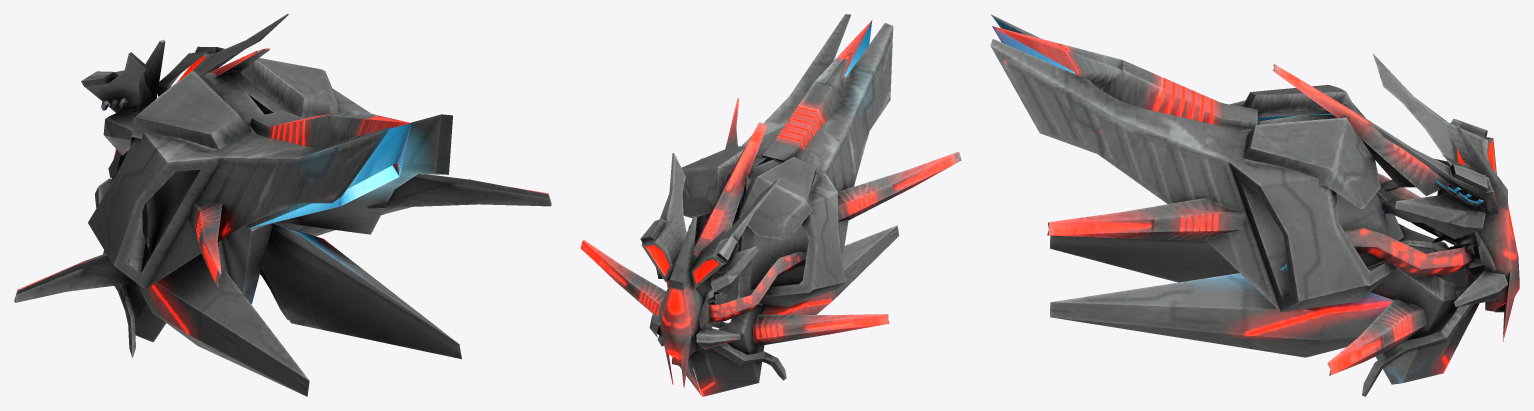
The model's file is slender.glb.
3 renders of one model, left to right at view 1: azimuth 30°, elevation 25°; view 2: azimuth 150°, elevation 25°; view 3: azimuth 270°, elevation 25°, orthographic. The views are drawn at different scales.
Parts seen in each view (by area): view 1: saimon_LP; view 2: saimon_LP; view 3: saimon_LP.
Part boxes in pixels (x1,y1,x2,y2): saimon_LP: (14, 14, 551, 396); saimon_LP: (580, 14, 961, 396); saimon_LP: (990, 14, 1519, 396).
Bounding box in the file's own units: 95.14 × 75.41 × 105.
1 material, 1 textured.
